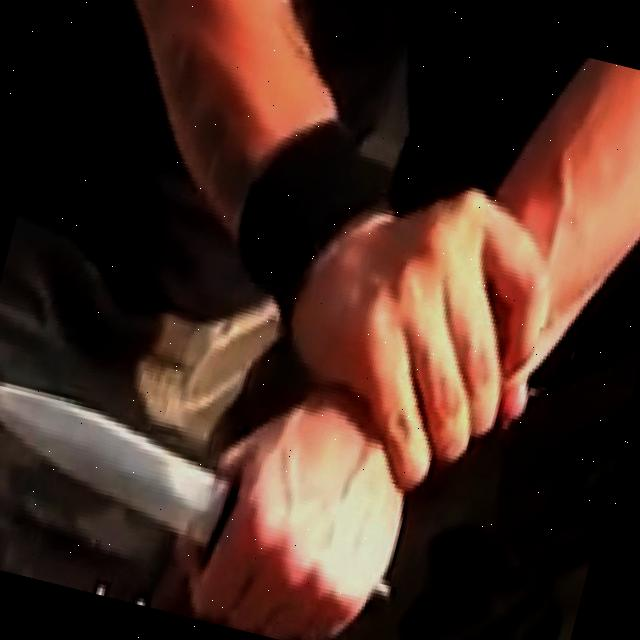suspicion: (0, 0, 640, 640), (0, 370, 223, 552)
